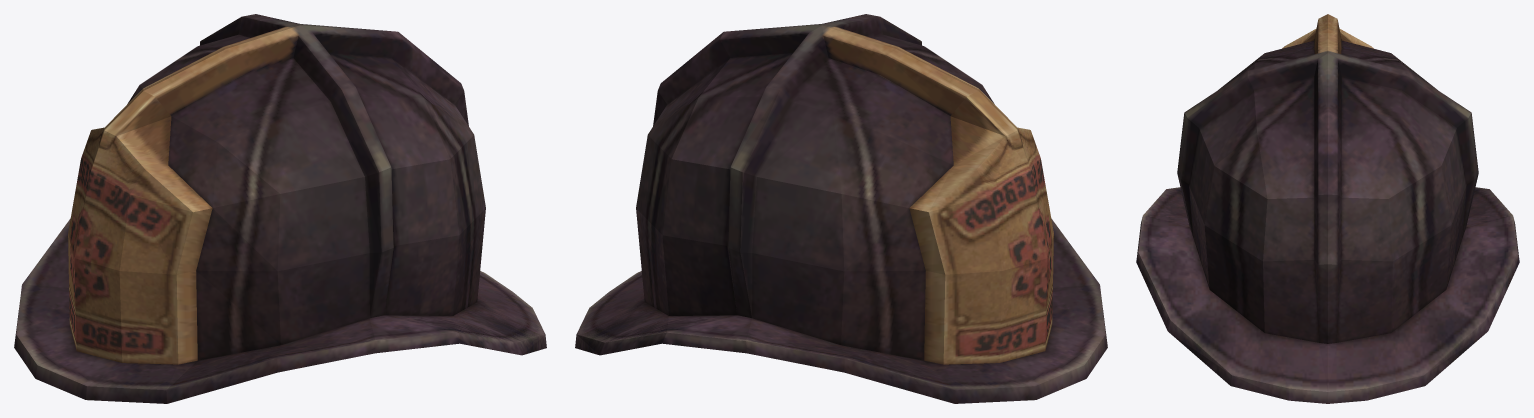
The model's file is Penguin_fireFighterHat.obj.
3 views of the same model, side by side, from view 1: azimuth 30°, elevation 25°; view 2: azimuth 150°, elevation 25°; view 3: azimuth 270°, elevation 25° (orthographic). The views are drawn at different scales.
Visible parts, largest first — view 1: Penguin_fireFighterHat_tri; view 2: Penguin_fireFighterHat_tri; view 3: Penguin_fireFighterHat_tri.
Boxes of the visible parts, bbox=[...] form: Penguin_fireFighterHat_tri: bbox=[14, 14, 546, 403]; Penguin_fireFighterHat_tri: bbox=[575, 14, 1107, 403]; Penguin_fireFighterHat_tri: bbox=[1136, 14, 1519, 403].
Bounding box in the file's own units: 0.5332 × 0.3518 × 0.4593.
Materials: 1 (1 with a texture image).
